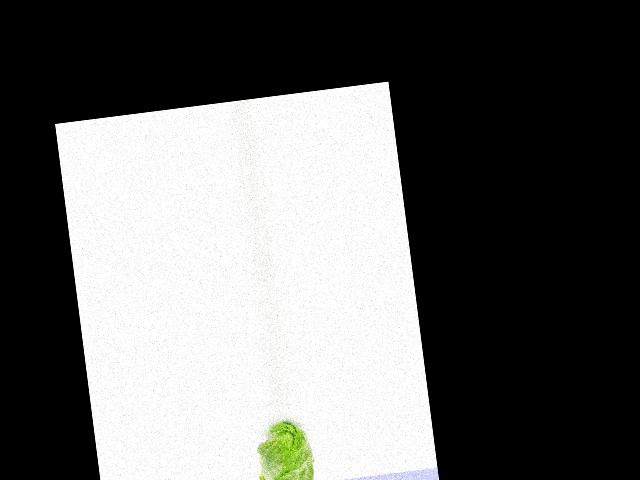lettuce: (252, 415, 317, 480)
